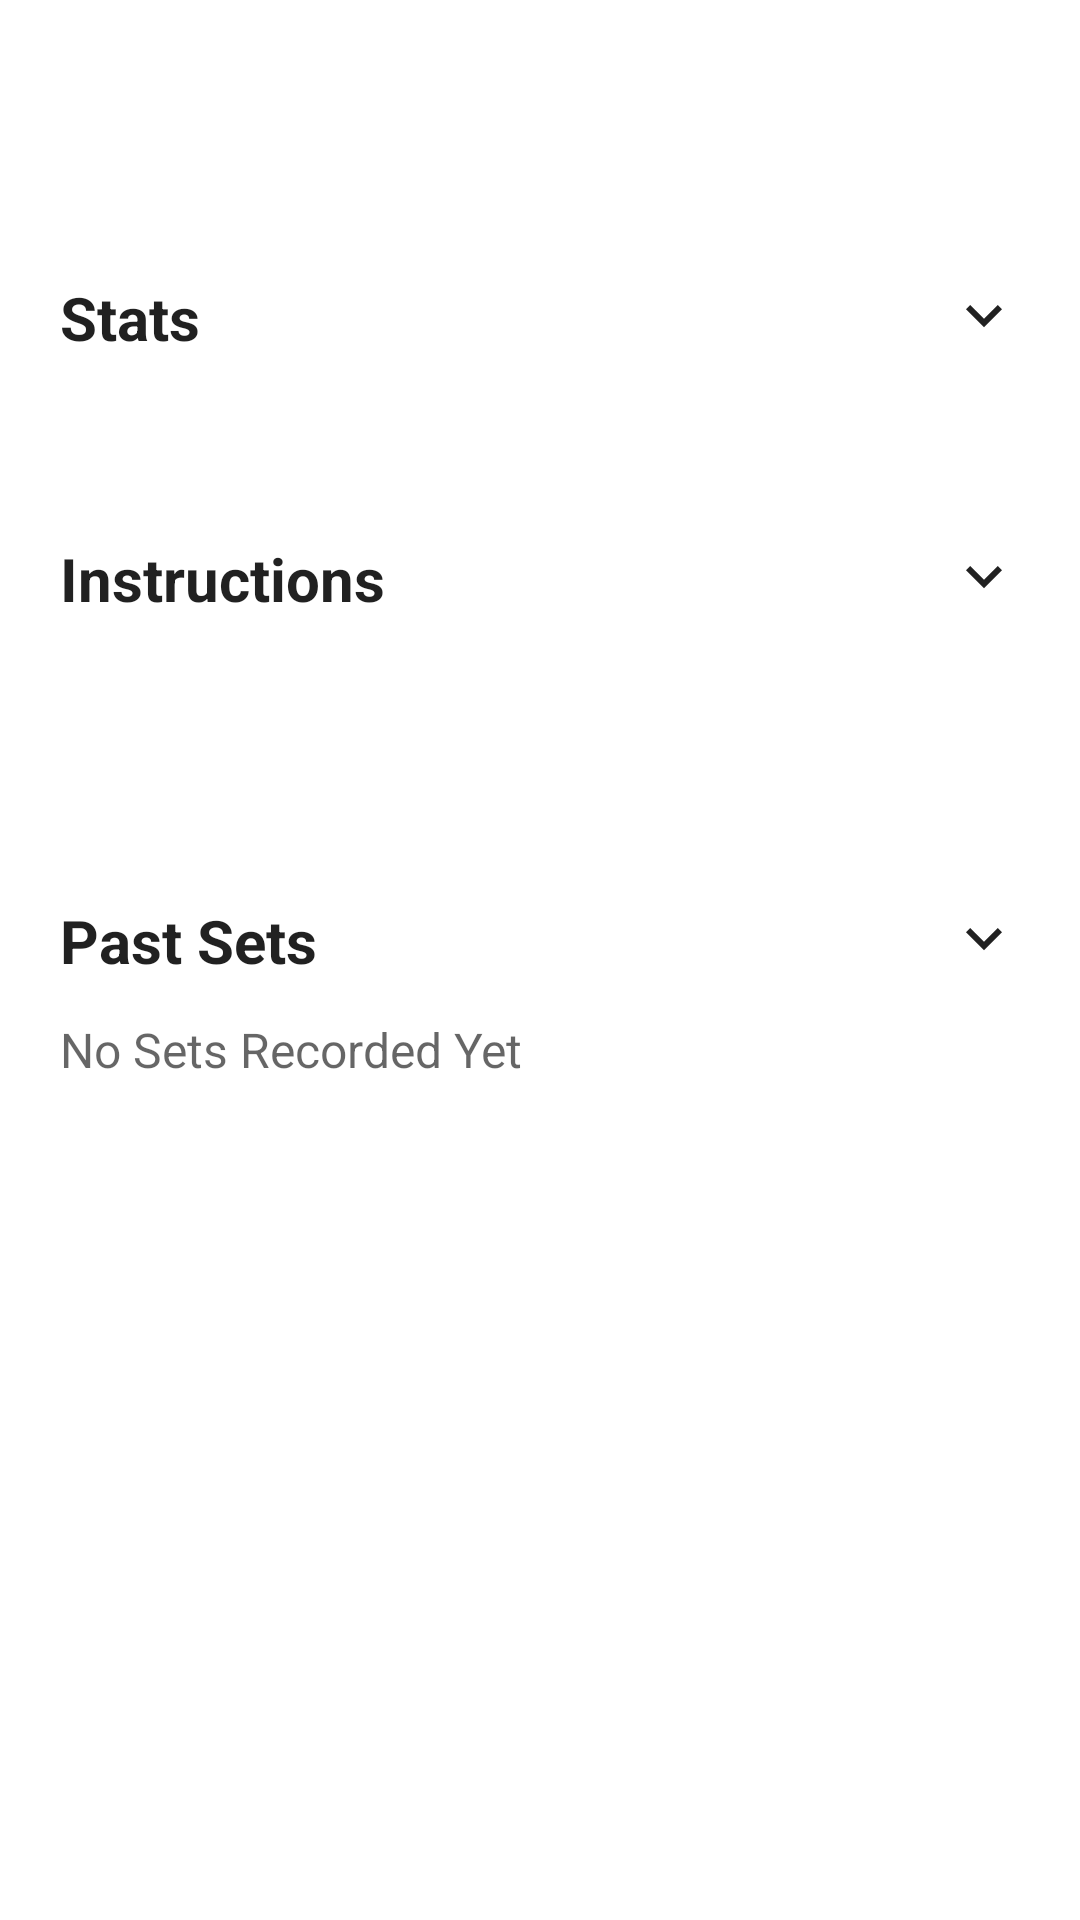

Point at icon controls on the screen. Image size 1080 × 1920, points as point (x, y).
arrow: point (984, 316), point (984, 577), point (984, 939)
